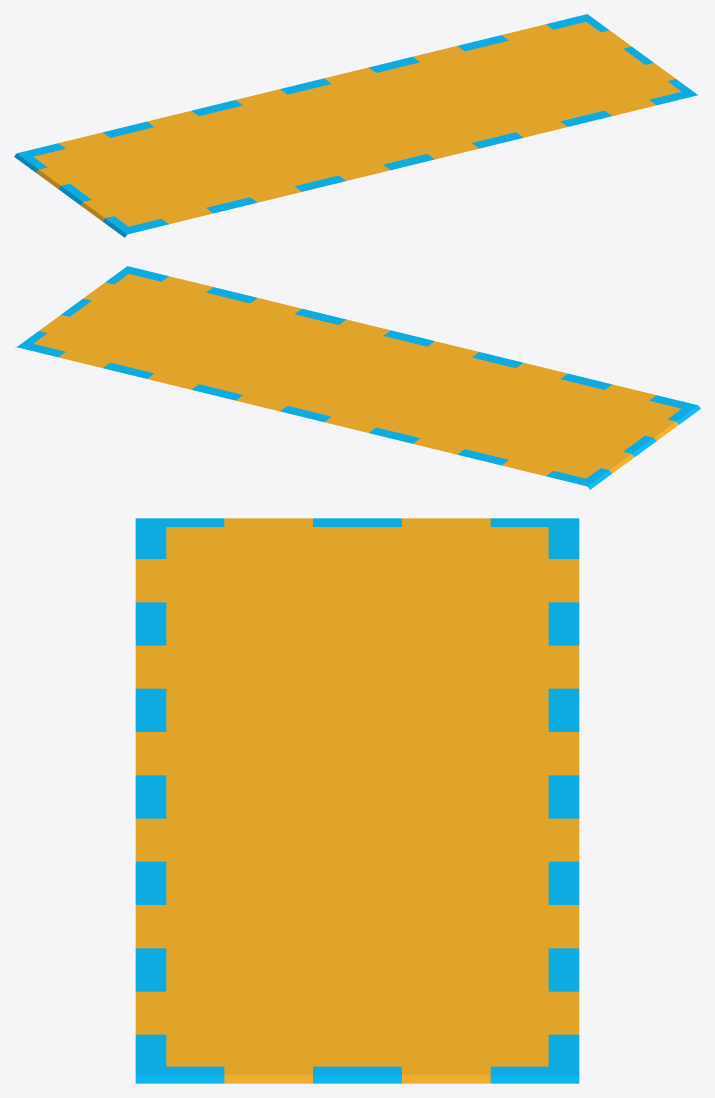
File: ground_track02.FBX
3 renders of one model, top to bottom at view 1: azimuth 30°, elevation 25°; view 2: azimuth 150°, elevation 25°; view 3: azimuth 270°, elevation 25°, orthographic. The views are drawn at different scales.
Parts seen in each view (by area): view 1: ground_track02; view 2: ground_track02; view 3: ground_track02.
Boxes of the visible parts, x1,y1,x2,y2 form: ground_track02: [14, 14, 699, 237]; ground_track02: [15, 266, 700, 489]; ground_track02: [135, 518, 579, 1083].
Size of the model in its own units: 12 by 0.0558 by 4.
Materials: 1 (1 with a texture image).
